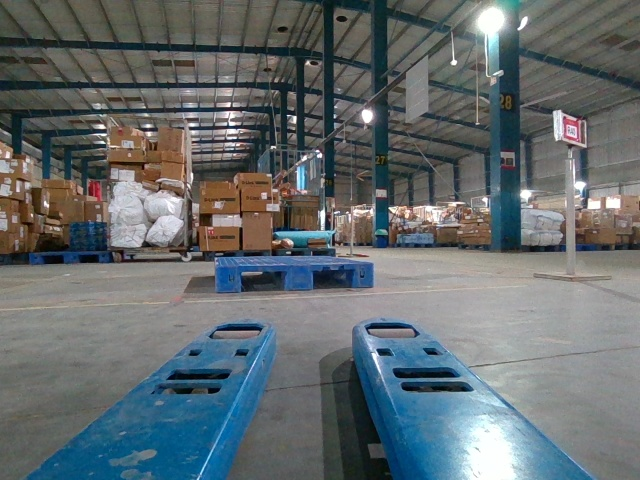block: (215, 266, 245, 294), (282, 265, 314, 290), (353, 261, 374, 290)
front: (216, 263, 373, 292)
hole pallet: (306, 262, 356, 288), (239, 268, 289, 292)
